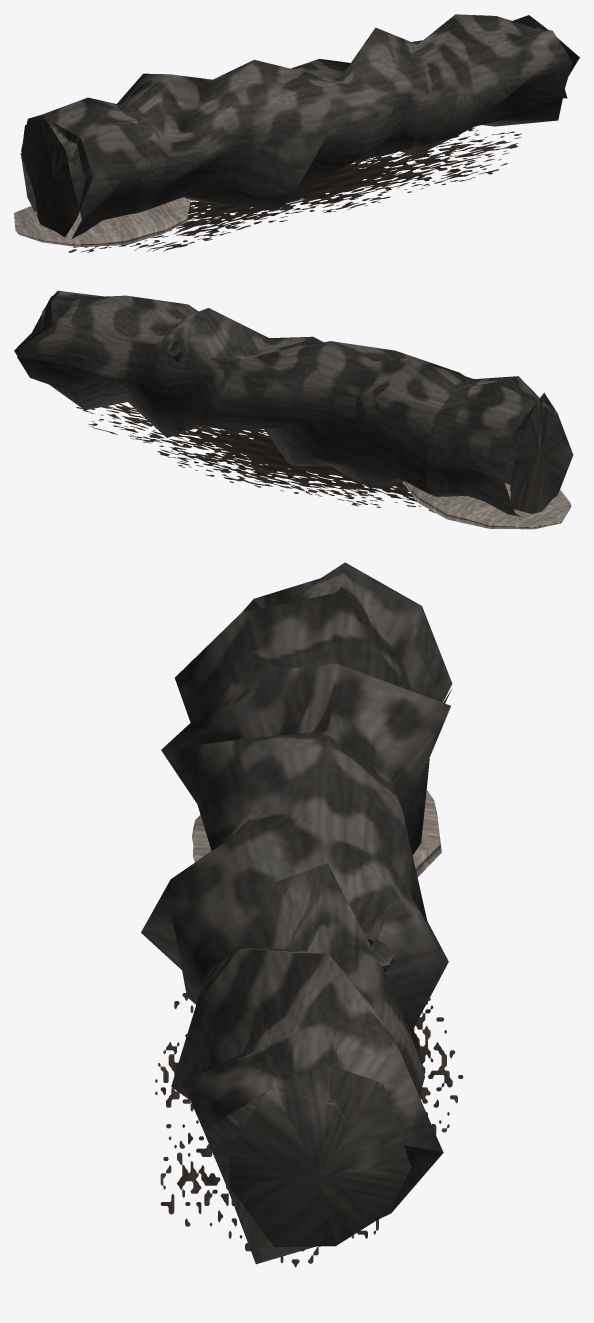
The model's file is log_burnt.glb.
The picture shows the model from 3 angles, top to bottom: view 1: azimuth 30°, elevation 25°; view 2: azimuth 150°, elevation 25°; view 3: azimuth 270°, elevation 25°; orthographic projection. The views are drawn at different scales.
Visible parts, largest first — view 1: log_burnt; view 2: log_burnt; view 3: log_burnt.
Boxes of the visible parts, <box> form: log_burnt: <box>14,14,579,252</box>; log_burnt: <box>14,290,573,529</box>; log_burnt: <box>141,562,463,1267</box>.
Bounding box in the file's own units: 2.5 × 0.6194 × 0.702.
2 materials, 2 textured.
